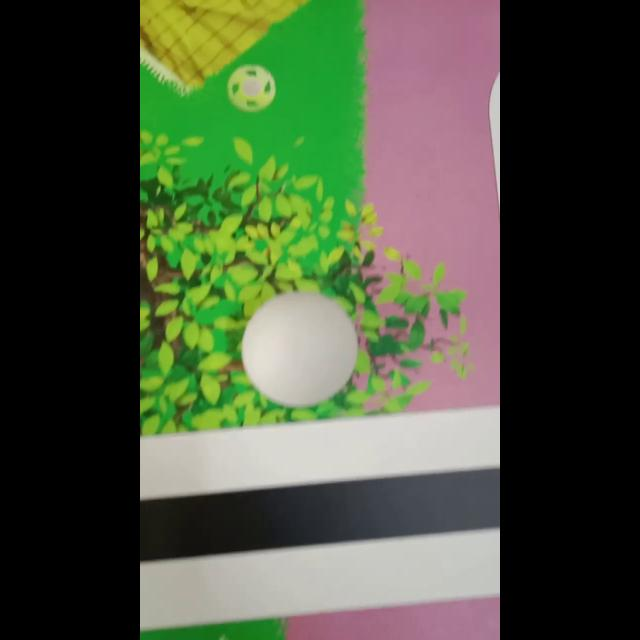white ball: (240, 290, 358, 408)
